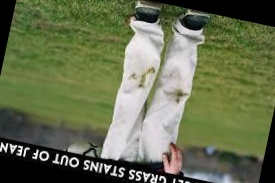earth: (173, 88, 184, 103), (138, 73, 148, 88), (128, 72, 137, 81), (146, 66, 156, 74)
